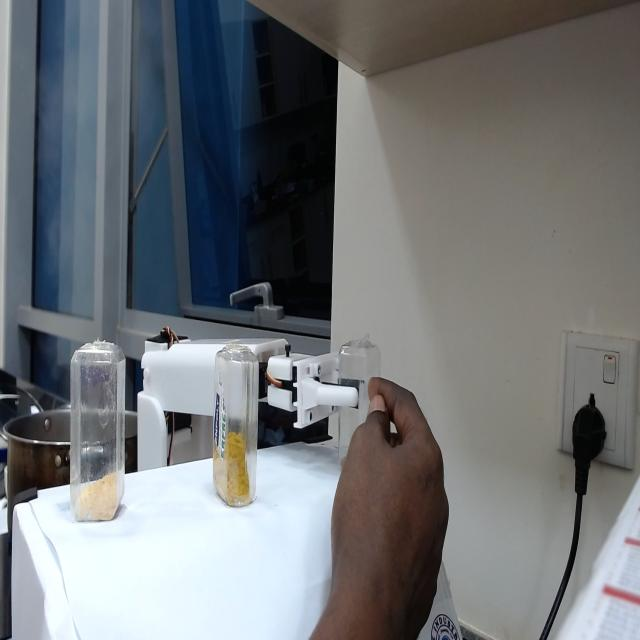cooking_pot: (2, 403, 70, 533)
curry_powder: (212, 432, 252, 509)
garlic_powder: (74, 470, 125, 519)
